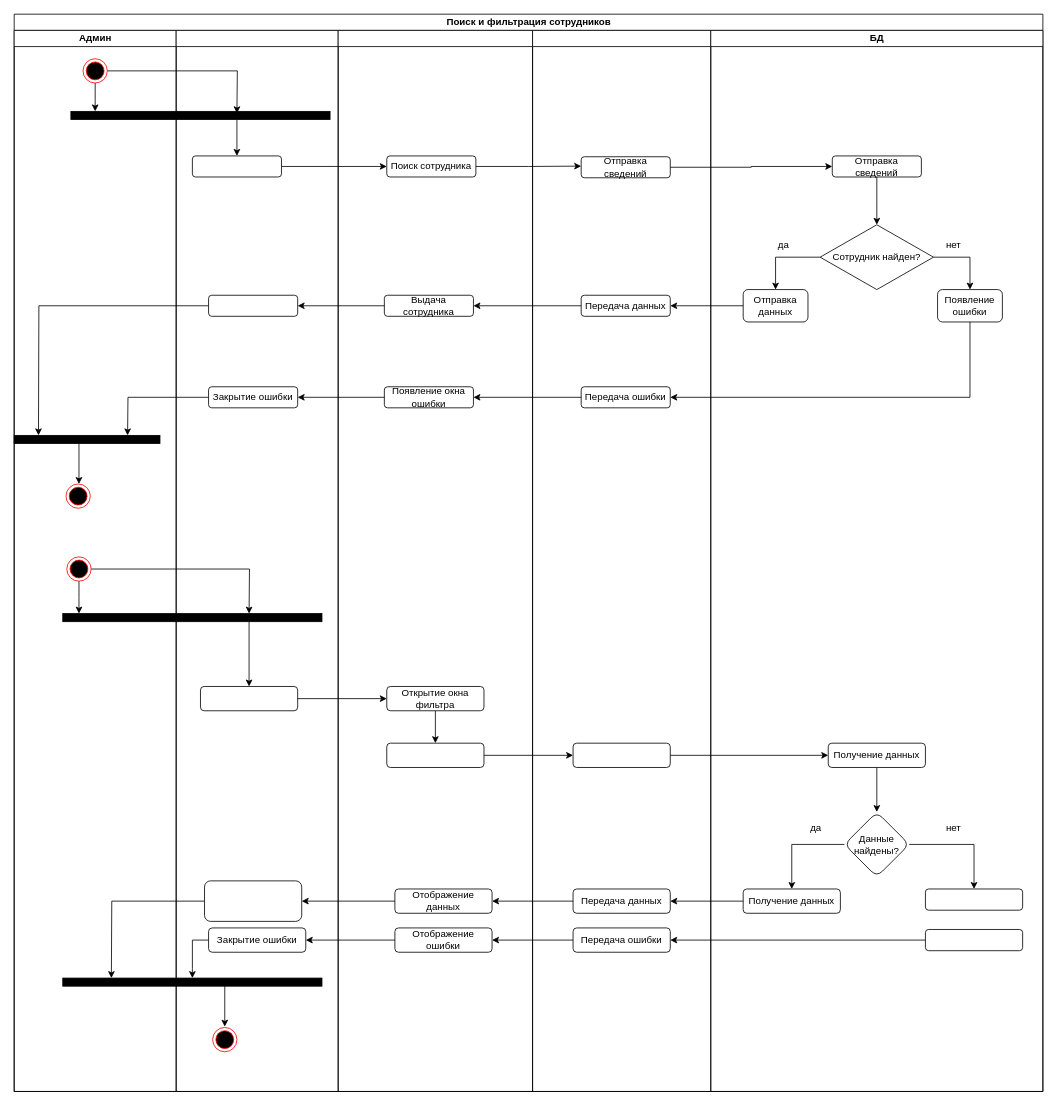
Some shapes in this 1057 by 1106 pixel diagram are drawn without their labels. Each missing label, with the box of its shape:
Выбор необходимых данных: (204, 880, 302, 921)
Интерфейс: (337, 30, 533, 1091)
Менеджер: (175, 30, 338, 1091)
Нажатие кнопки поиска: (192, 155, 281, 177)
Нажатие кнопки Фильтр: (200, 686, 298, 711)
Обработка фильтра: (572, 742, 670, 767)
Отправка введенных данных: (386, 742, 484, 767)
Получение ошибки: (925, 888, 1023, 910)
Просмотр сотрудника: (208, 294, 298, 316)
Система: (532, 30, 711, 1091)
Сохранение кода ошибки: (925, 929, 1023, 951)
